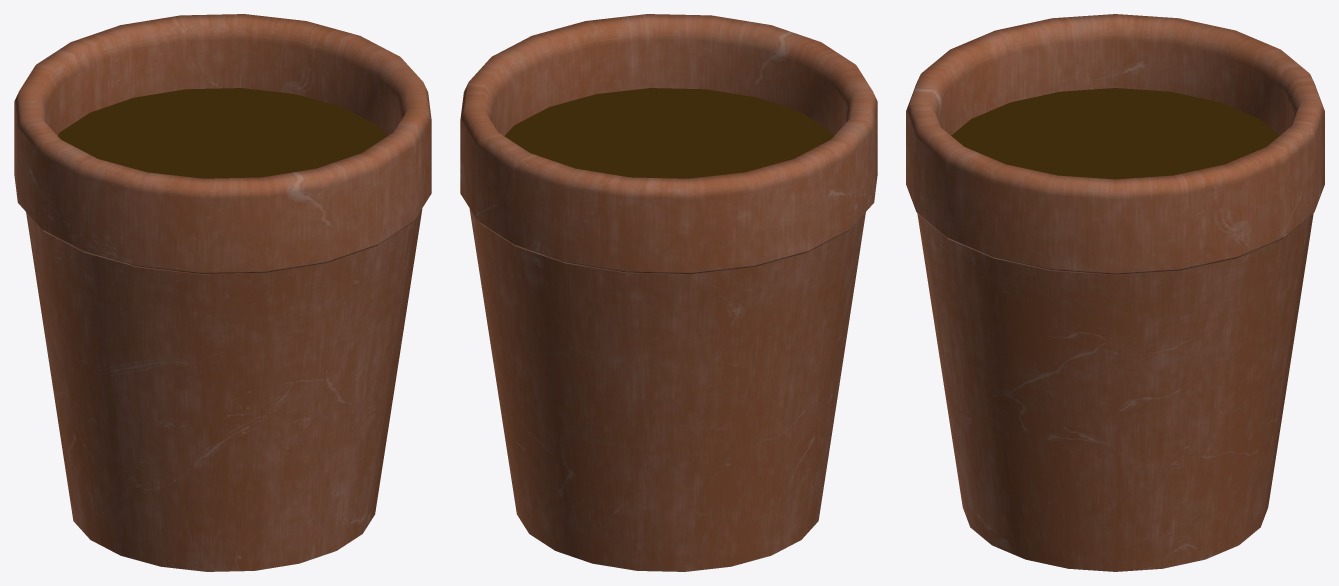
3 renders of one model, left to right at view 1: azimuth 30°, elevation 25°; view 2: azimuth 150°, elevation 25°; view 3: azimuth 270°, elevation 25°, orthographic.
Parts seen in each view (by area): view 1: pCylinder1; view 2: pCylinder1; view 3: pCylinder1.
Boxes of the visible parts, box(x1,y1,x2,y2) form: pCylinder1: box(14, 14, 431, 571); pCylinder1: box(460, 14, 877, 571); pCylinder1: box(906, 14, 1324, 571).
Size of the model in its own units: 15.3 by 16.4 by 15.3.
Materials: 1 (1 with a texture image).
